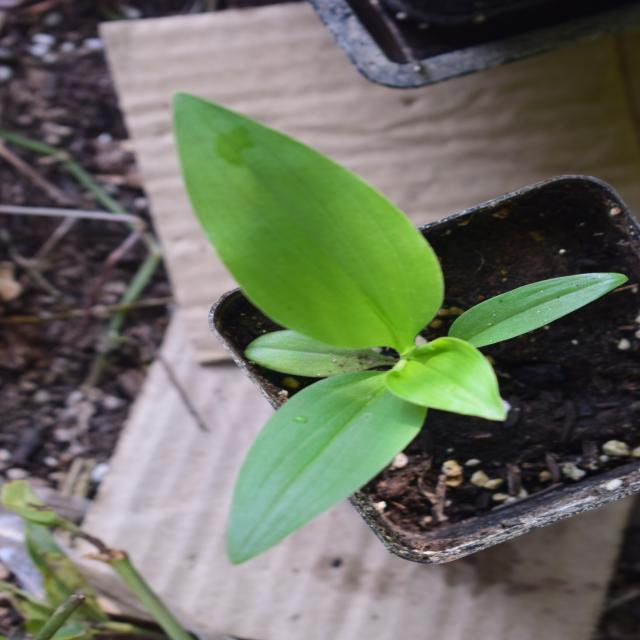Common Dayflower: (87, 70, 574, 464)
